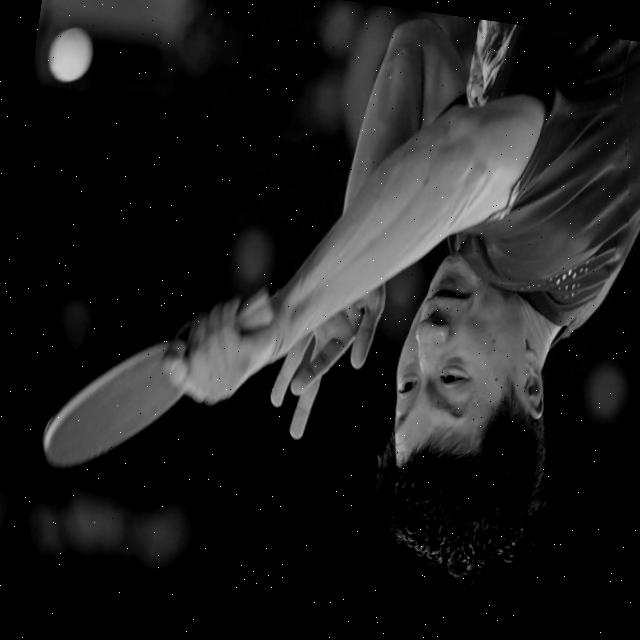ping-pong-ball: (43, 15, 100, 91)
